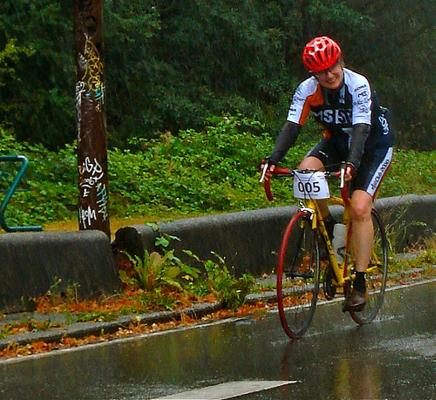person: (260, 35, 394, 309)
